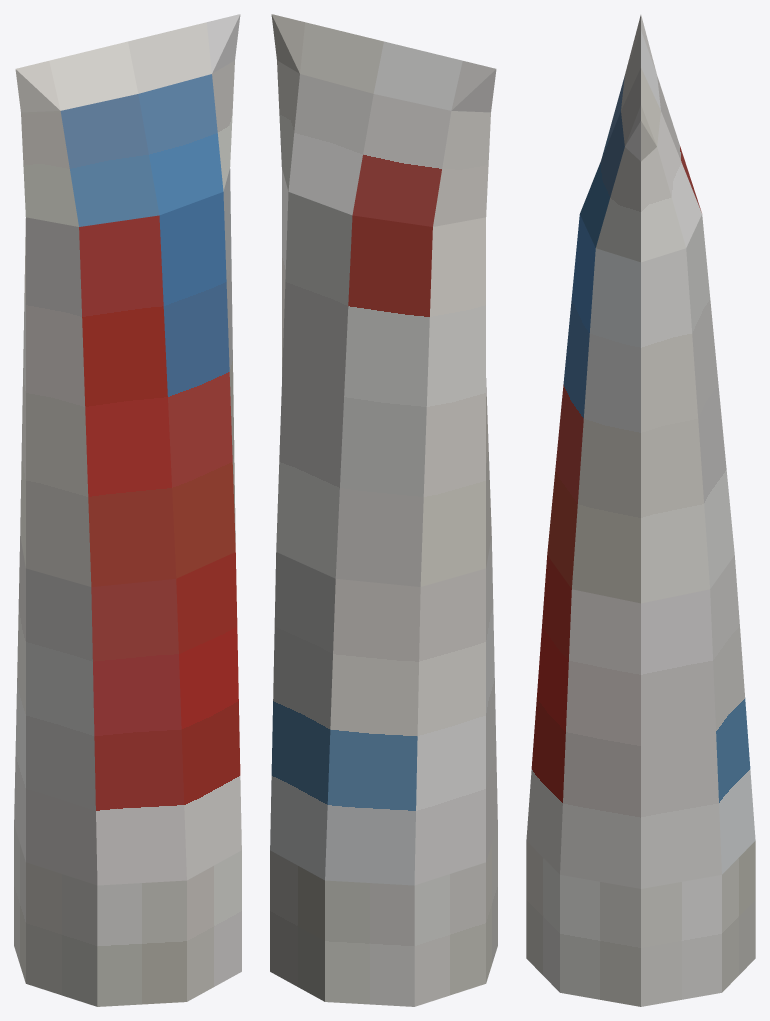
The model's file is Toothpaste01.glb.
The picture shows the model from 3 angles, left to right: view 1: azimuth 30°, elevation 25°; view 2: azimuth 150°, elevation 25°; view 3: azimuth 270°, elevation 25°; orthographic projection. The views are drawn at different scales.
Parts seen in each view (by area): view 1: Toothpaste01; view 2: Toothpaste01; view 3: Toothpaste01.
Boxes of the visible parts, x1,y1,x2,y2 form: Toothpaste01: [14, 14, 241, 1006]; Toothpaste01: [270, 14, 497, 1006]; Toothpaste01: [526, 15, 755, 1006].
Bounding box in the file's own units: 0.064 × 0.2492 × 0.0581.
1 material, 1 textured.
